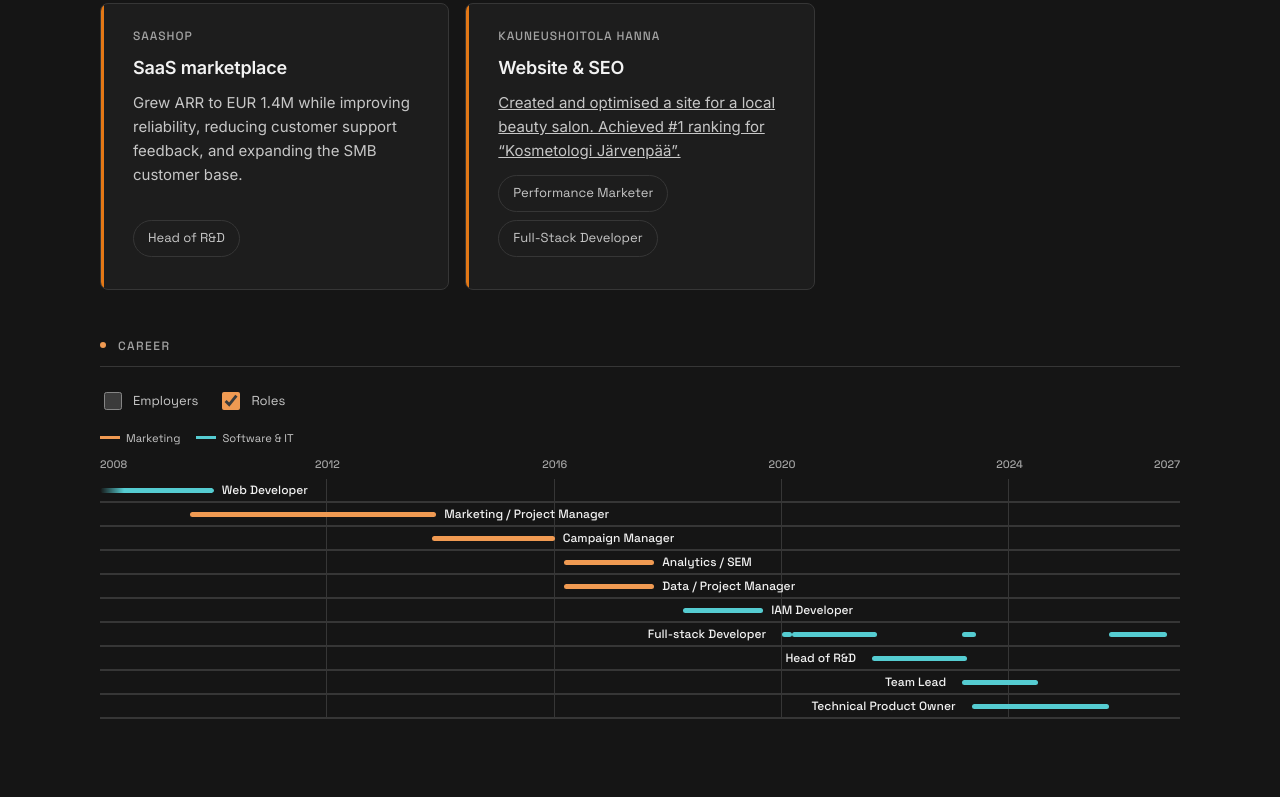
Test case: career timeline UI › fits the timeline to its container without native zoom or horizontal scrolling
(page scrolled)
Click the checkbox labelled "Employers" at x=113, y=401, box [104, 392, 122, 410]
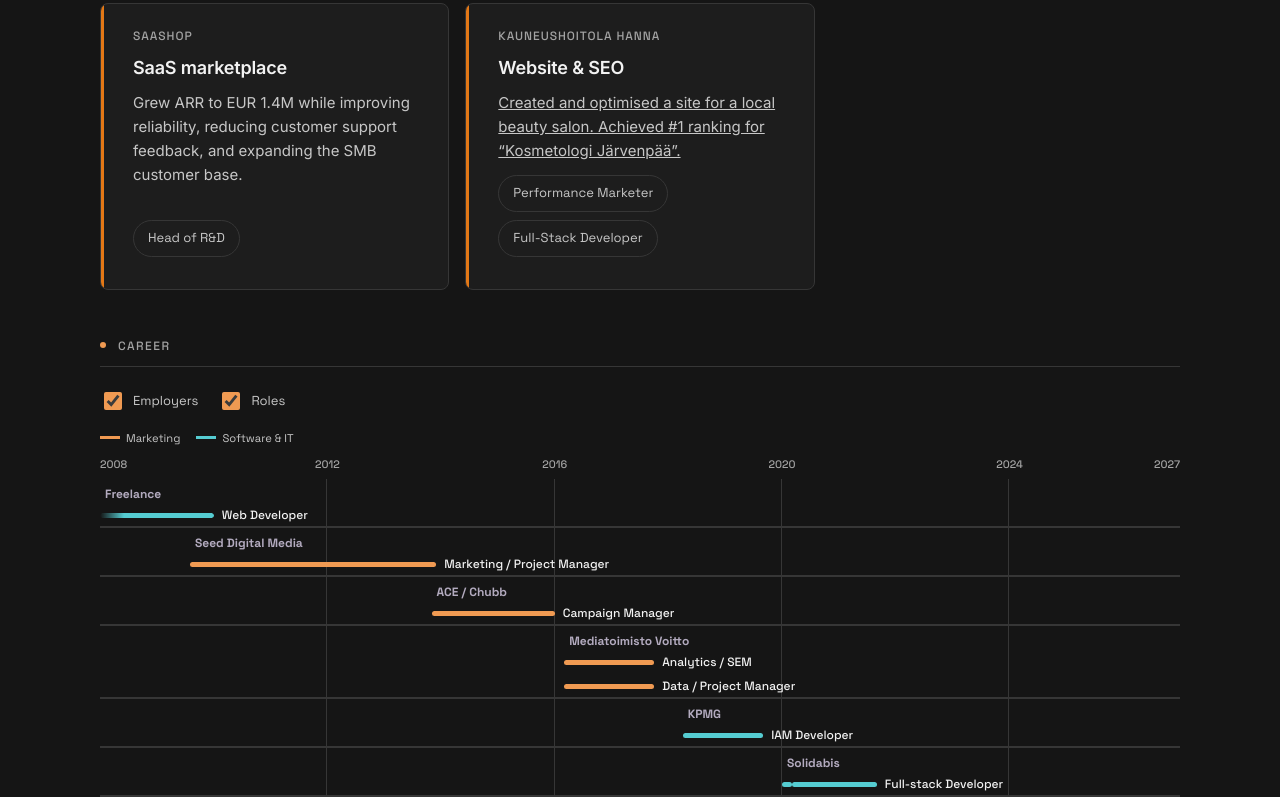
Expected: the button named "Web Developer at Freelance" is shown, [100, 503, 214, 527]
Result: the element showing "Freelance Web Developer" is shown at [100, 479, 1180, 528]
